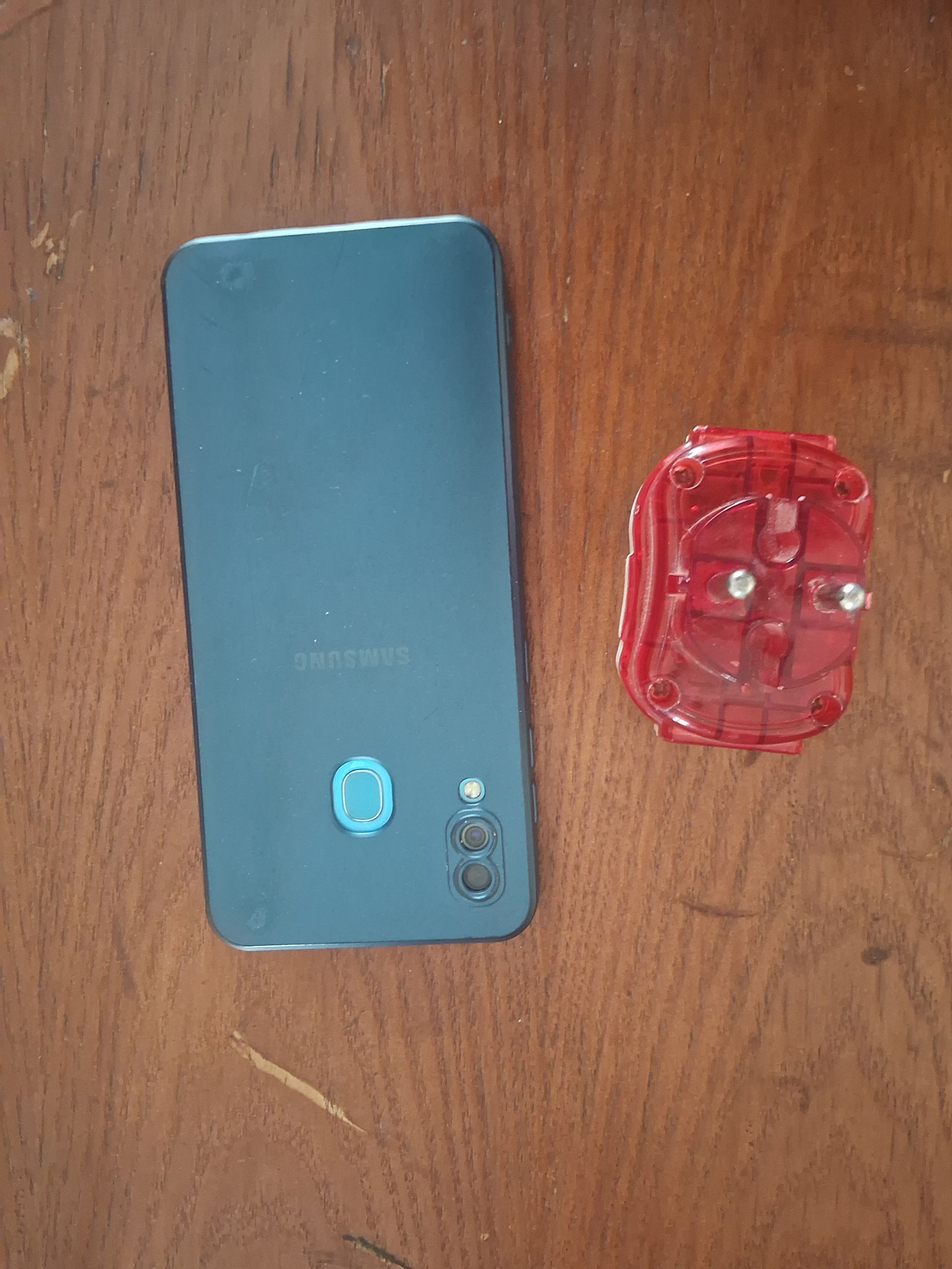Multi_adapter: (609, 400, 886, 763)
Smart_phone: (149, 195, 557, 962)
